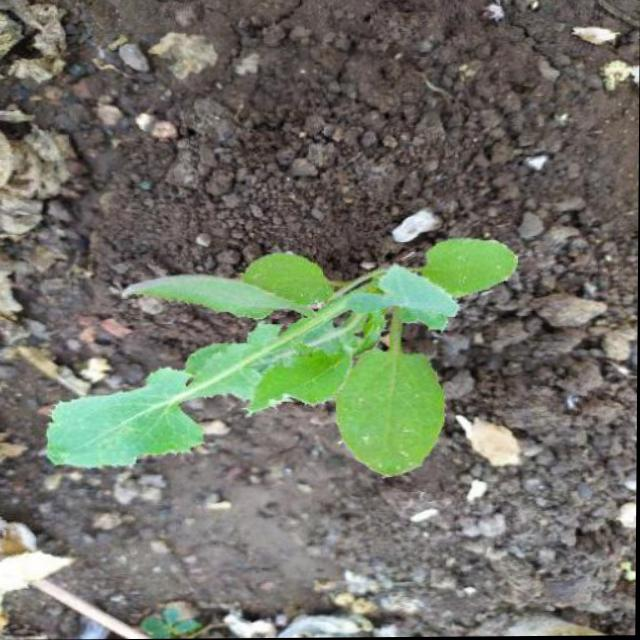weed: (42, 226, 523, 509)
